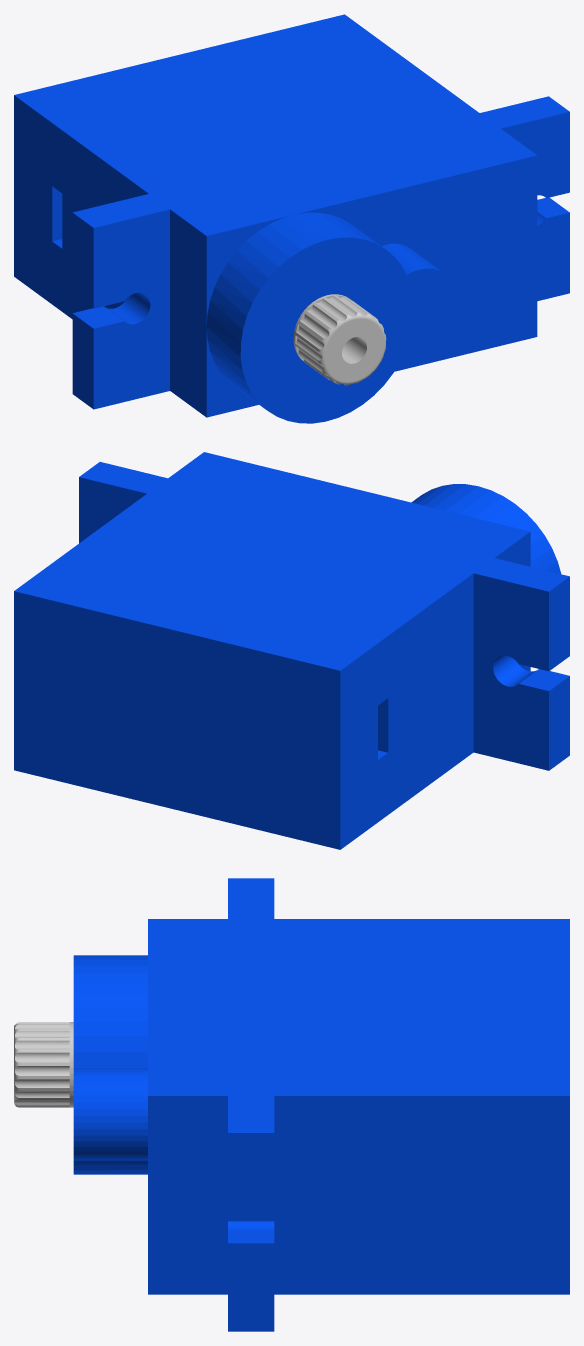
3 renders of one model, top to bottom at view 1: azimuth 30°, elevation 25°; view 2: azimuth 150°, elevation 25°; view 3: azimuth 270°, elevation 25°, orthographic. The views are drawn at different scales.
Visible parts, largest first — view 1: g0-plastic, g1-metal; view 2: g0-plastic; view 3: g0-plastic, g1-metal.
Boxes of the visible parts, x1,y1,x2,y2 form: g0-plastic: (14, 14, 569, 423); g1-metal: (293, 294, 386, 385); g0-plastic: (14, 452, 569, 849); g0-plastic: (73, 878, 569, 1331); g1-metal: (14, 1022, 73, 1107).
Bounding box in the file's own units: 32.4 × 11.8 × 29.9.
